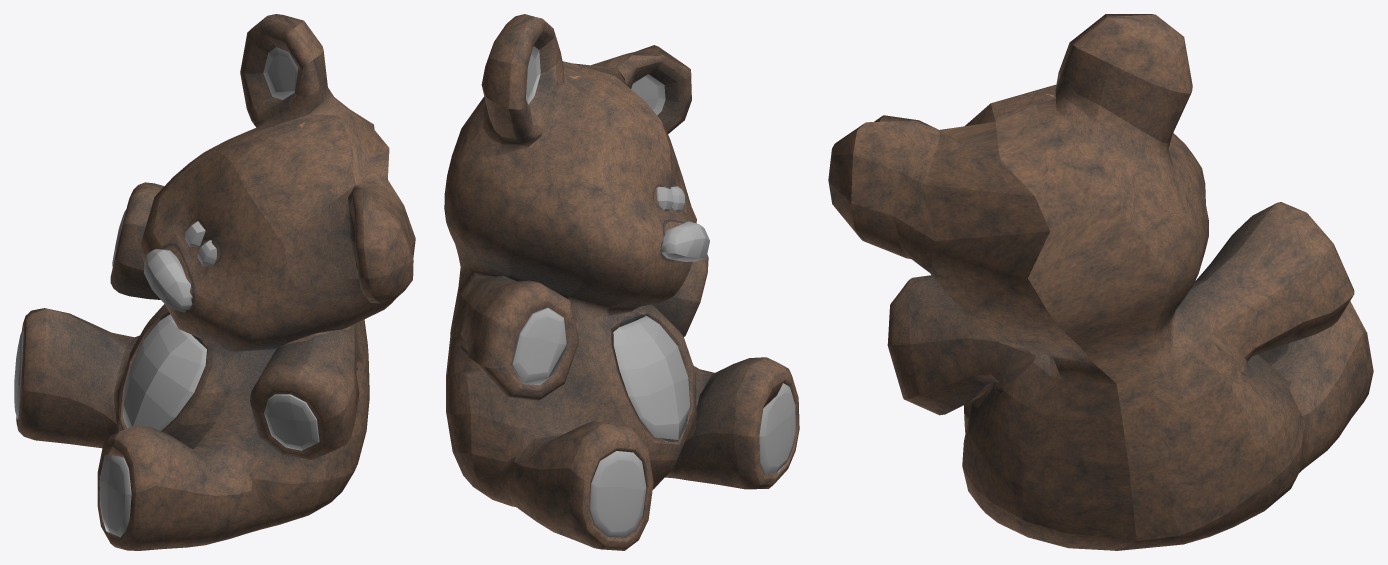
The model's file is teddybear.fbx.
The picture shows the model from 3 angles, left to right: view 1: azimuth 30°, elevation 25°; view 2: azimuth 150°, elevation 25°; view 3: azimuth 270°, elevation 25°; orthographic projection. The views are drawn at different scales.
Visible parts, largest first — view 1: duToonBabyTeddy_5048; view 2: duToonBabyTeddy_5048; view 3: duToonBabyTeddy_5048.
Boxes of the visible parts, left/top/right/bottom form: duToonBabyTeddy_5048: left=14, top=14, right=415, bottom=550; duToonBabyTeddy_5048: left=444, top=14, right=799, bottom=550; duToonBabyTeddy_5048: left=828, top=14, right=1373, bottom=550.
Size of the model in its own units: 1.08 by 1.58 by 1.46.
